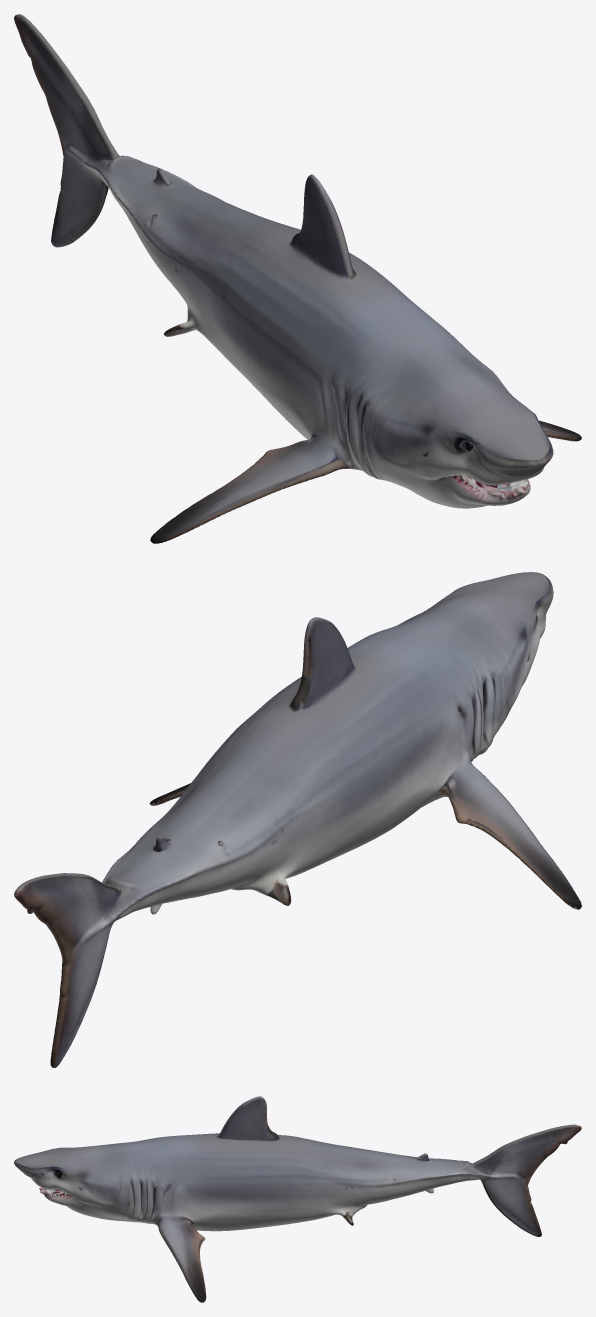
3 views of the same model, one above another, from view 1: azimuth 30°, elevation 25°; view 2: azimuth 150°, elevation 25°; view 3: azimuth 270°, elevation 25° (orthographic). The views are drawn at different scales.
Parts seen in each view (by area): view 1: tripo_node_2a102e34-8dd0-4754-ad2f-81de1cb75af6_0; view 2: tripo_node_2a102e34-8dd0-4754-ad2f-81de1cb75af6_0; view 3: tripo_node_2a102e34-8dd0-4754-ad2f-81de1cb75af6_0.
Part boxes in pixels (left/top/right/bottom): tripo_node_2a102e34-8dd0-4754-ad2f-81de1cb75af6_0: left=14, top=14, right=581, bottom=543; tripo_node_2a102e34-8dd0-4754-ad2f-81de1cb75af6_0: left=14, top=572, right=581, bottom=1067; tripo_node_2a102e34-8dd0-4754-ad2f-81de1cb75af6_0: left=14, top=1096, right=581, bottom=1302.
Bounding box in the file's own units: 0.4735 × 0.2916 × 1.
Materials: 1 (1 with a texture image).
